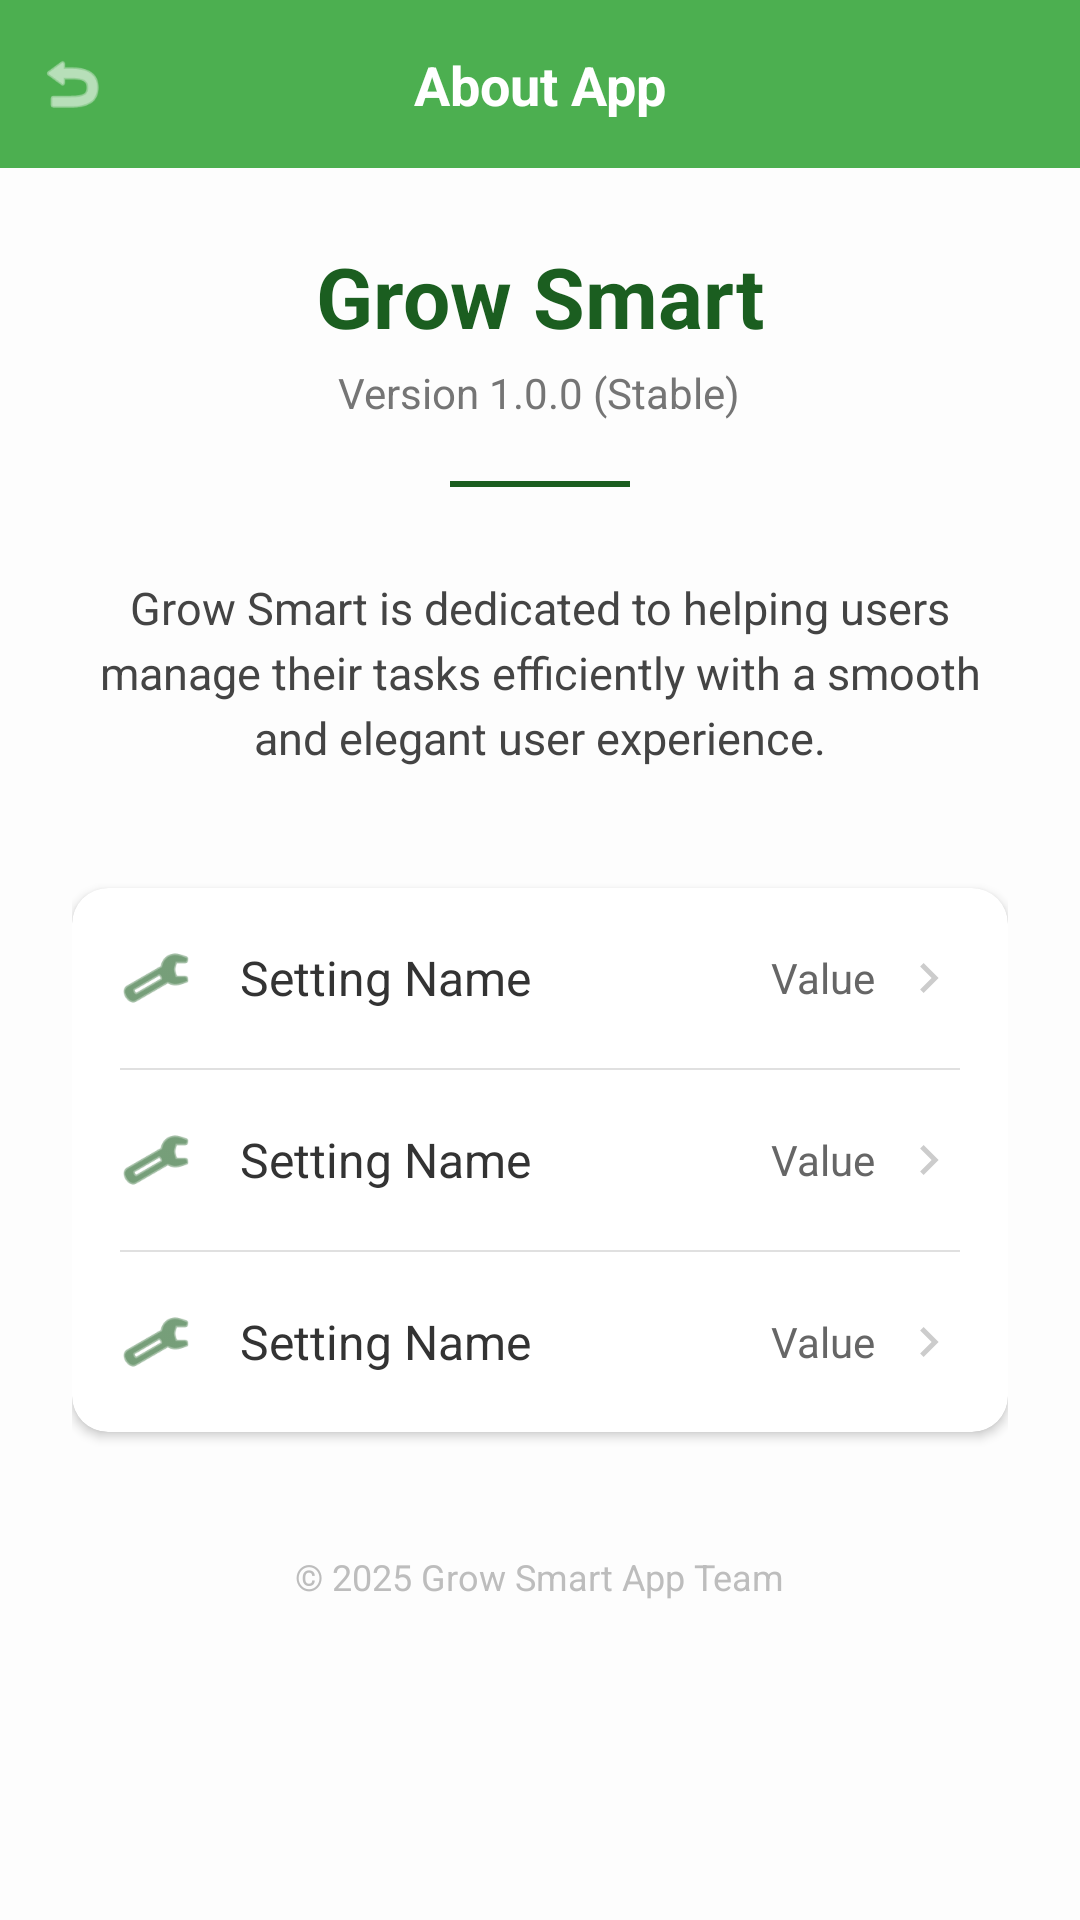

Named icons in this screenshot (1080 × 1920) and their centers, (x=x, y=y):
keyboard arrow right: (x=929, y=978), (x=929, y=1160), (x=929, y=1342)
manage: (x=155, y=978), (x=155, y=1160), (x=155, y=1342)
revert: (x=73, y=84)
